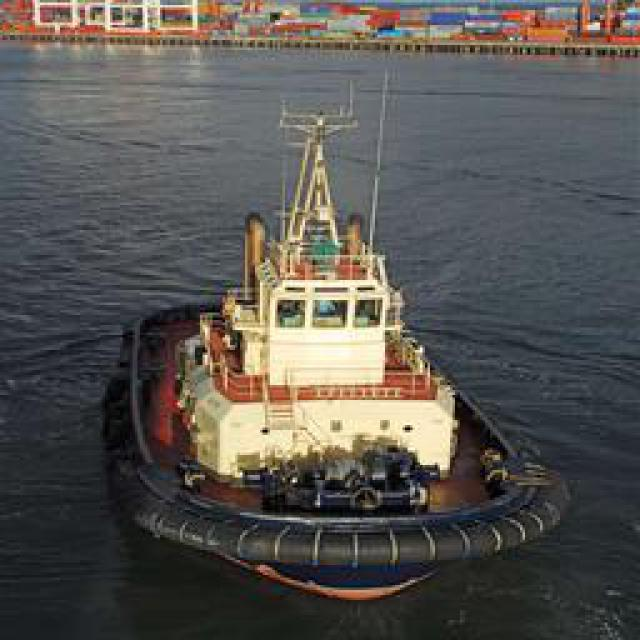Ship: (117, 99, 547, 569)
